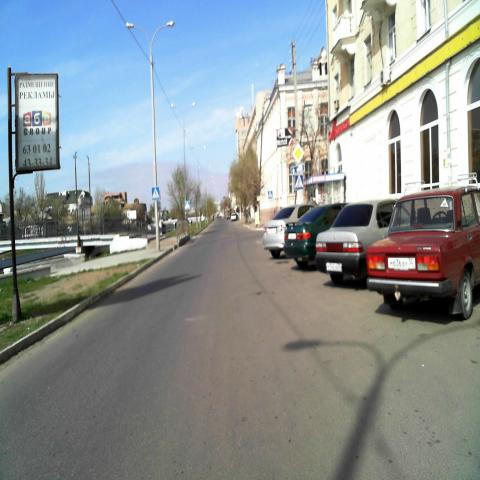2_1: (292, 142, 304, 164)
